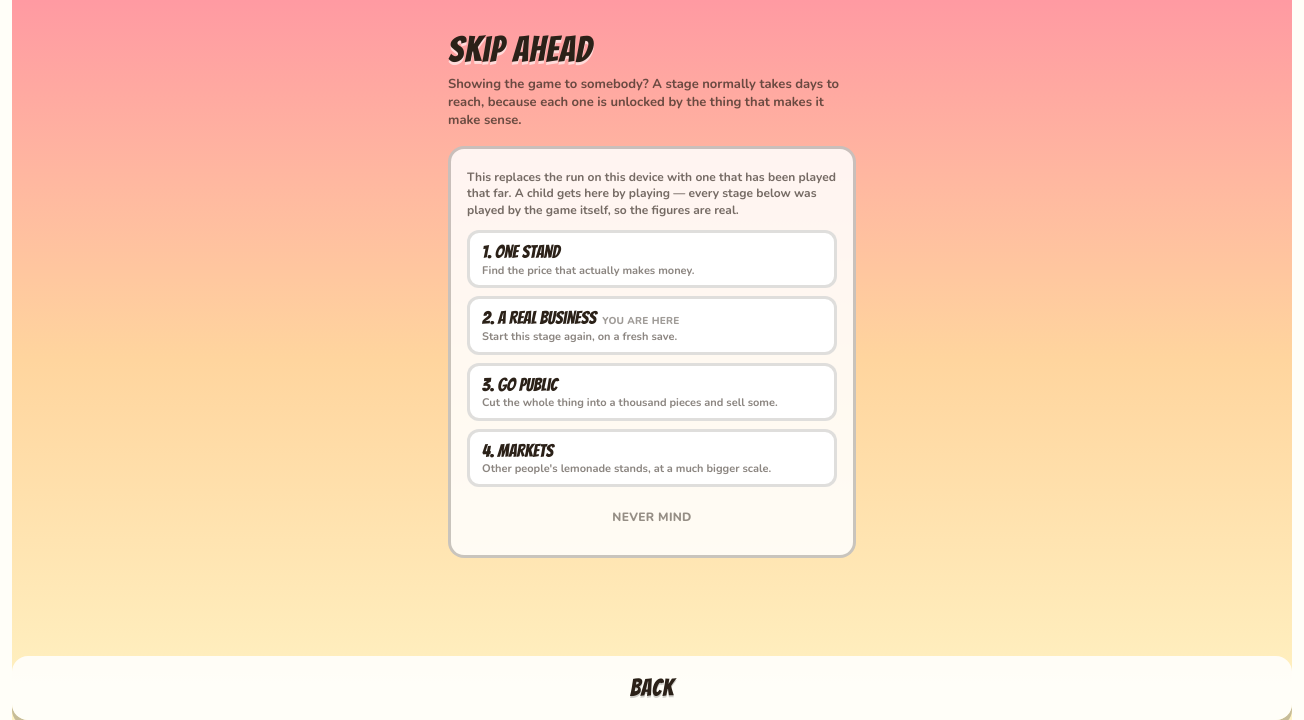
the demo shortcut › the door on the title screen › marks the stage in progress and offers it as a restart
Check: the text "you are here" is shown, box 602,314 -> 680,328
Click the text "2. A real business" at x=581, y=318, box 482,308 -> 680,328
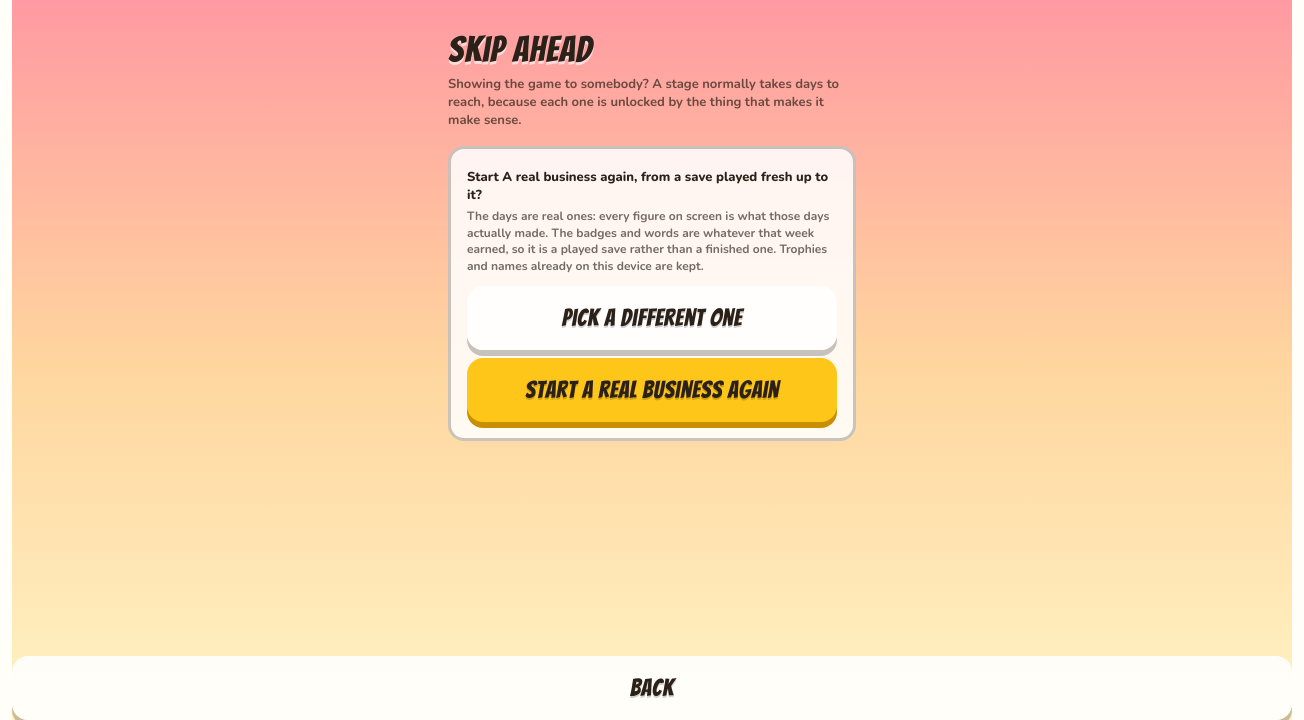
Check: the text "Start A real business again, from a save played fresh up to it?" is shown, box 467,169 -> 837,204
